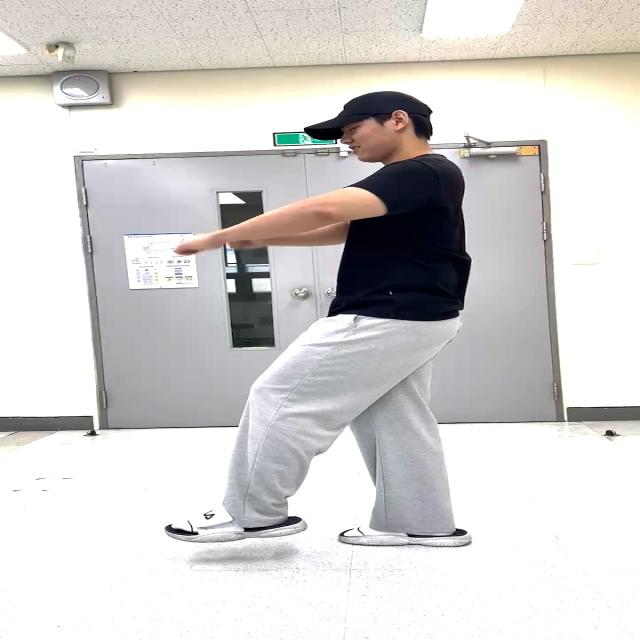leg: (189, 304, 374, 569)
